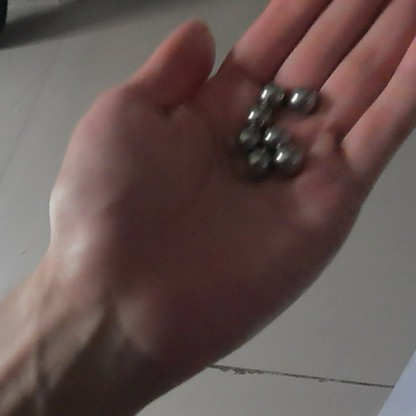ironball: (287, 80, 318, 116), (270, 143, 300, 176), (236, 150, 268, 180), (259, 123, 291, 151), (228, 122, 258, 150), (260, 80, 287, 110), (244, 101, 268, 130)
